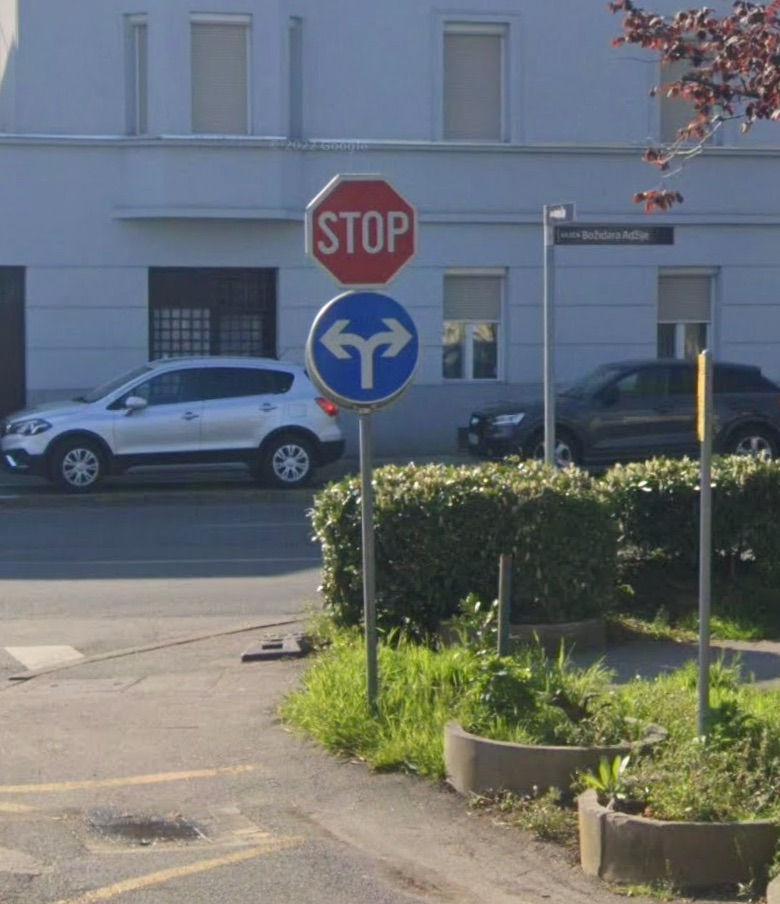Obavezno zaustavljanje: (306, 173, 420, 288)
